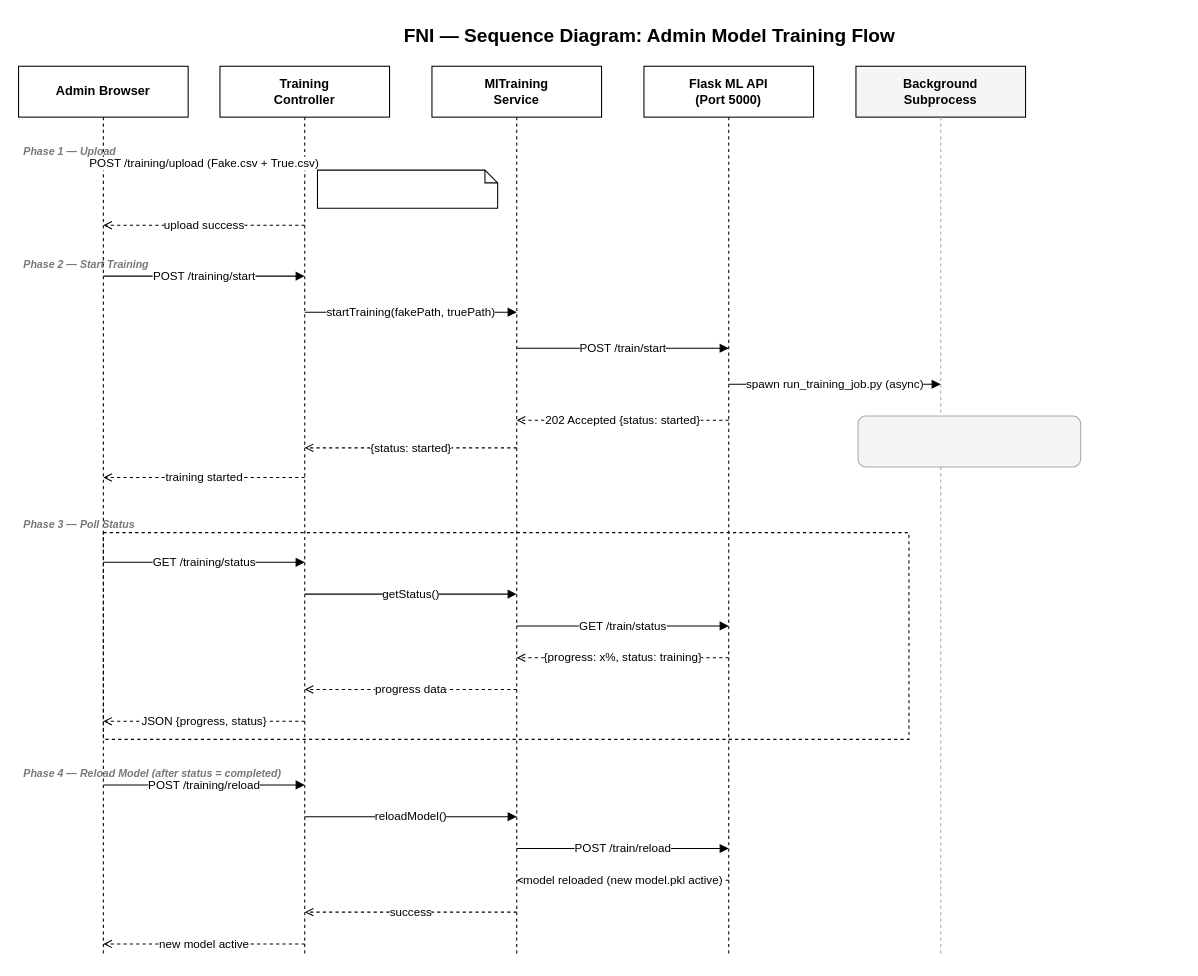
This 1198x976 diagram has some shape labels left out. Here are the shapes that lost their labels. From the top down, the box of each, then its label:
(316, 169, 498, 208): validate CSV · store to storage/app/private/ml/
(857, 415, 1081, 467): bg: preprocess → train LR / NB / SVM → pick best F1 → save model.pkl
(102, 532, 909, 739): loop [Alpine.js polls every 3 s while status ≠ completed]
